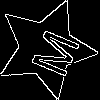M: (21, 23, 81, 80)
